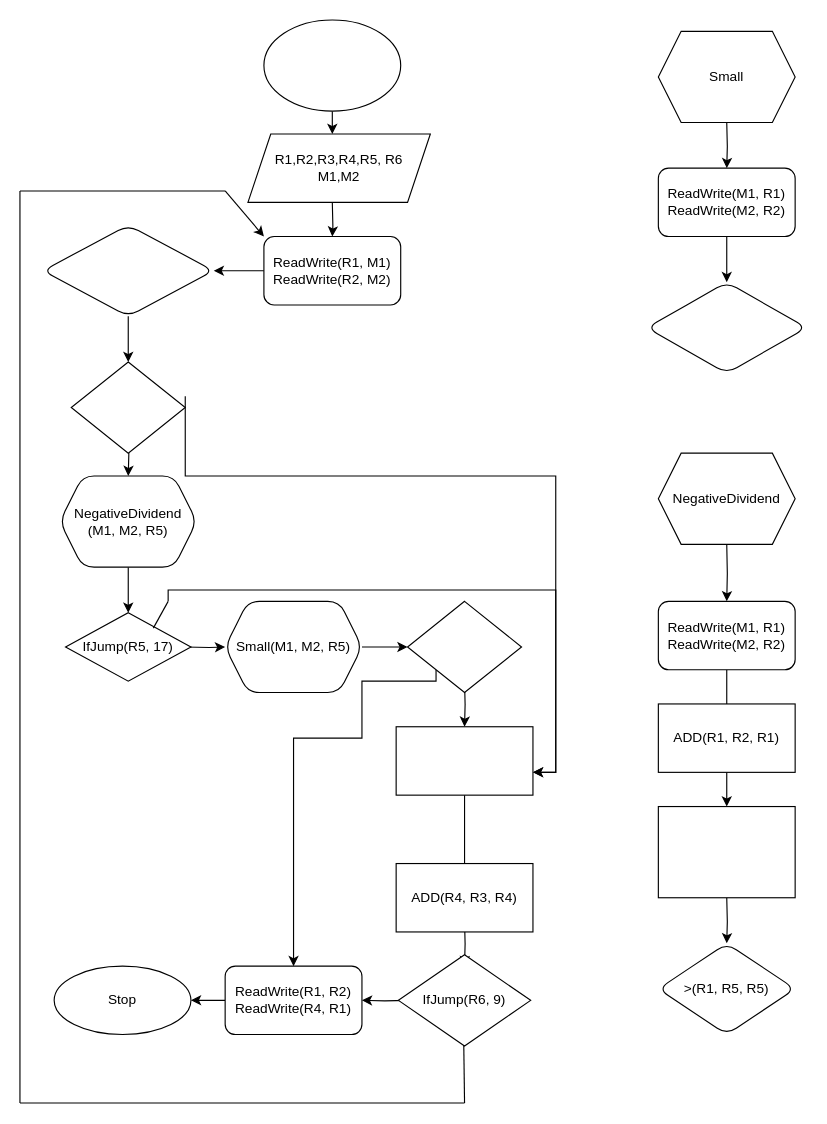
Some shapes in this 827 by 1124 pixel diagram are drawn without their labels. The centre of each missing label's shape, as x and y in pixels:
"<(R1, R2, R5)" goes at (x=726, y=327).
">=(R1, R2, R6)" goes at (x=128, y=270).
"IfJump(R5, 20)" goes at (x=464, y=646).
"IfJump(R6, 17)" goes at (x=127, y=407).
"Start" goes at (x=332, y=65).
"SUBTRACT (R1, R2, R1)" goes at (x=464, y=760).
"SUBTRACT (R4, R3, R4)" goes at (x=726, y=851).
